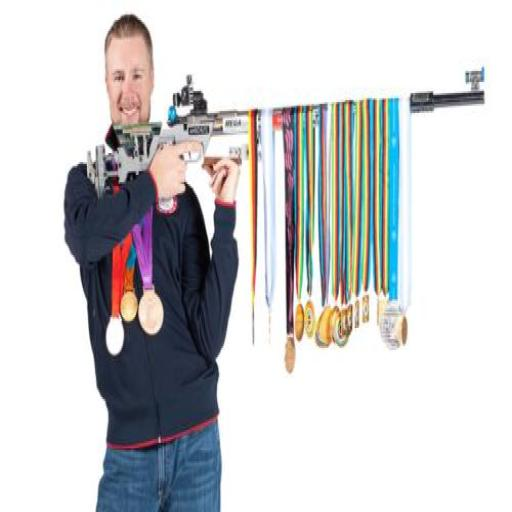shooting: (62, 11, 242, 510)
